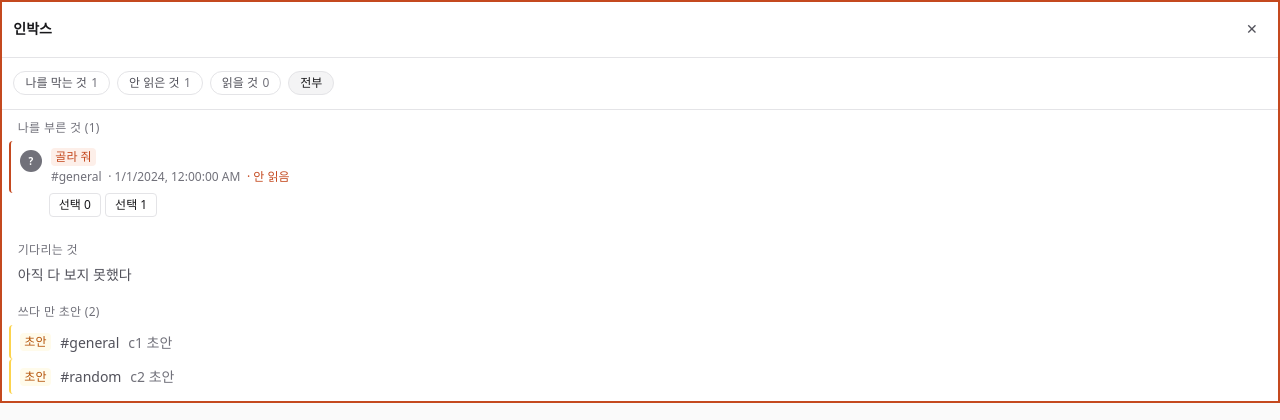
Test: Inbox (#185) › 칩으로 좁히면 초안 구획이 빈다
Expected: the button with test id "inbox-draft-c1" is shown, [9,325,1271,359]
Expected: the button with test id "inbox-draft-c2" is shown, [9,360,1271,394]
Click the button with test id "inbox-filter-blocking".
click(62, 83)  # box [13,71,110,95]
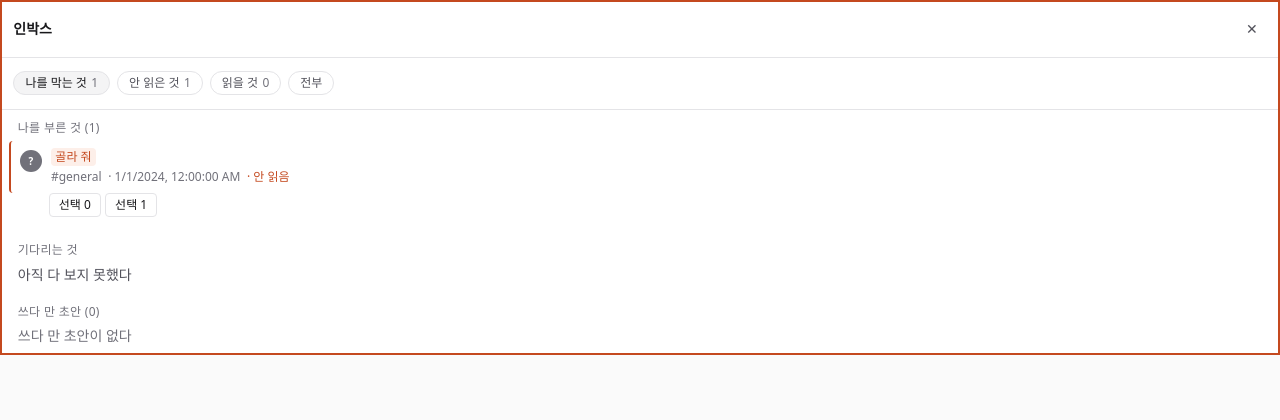
Expected: the button with test id "inbox-entry-1" is shown, [9,141,1271,193]
Now the button with test id "inbox-draft-c1" is gone
Now the button with test id "inbox-draft-c2" is gone
Click the button with test id "inbox-filter-reading".
click(246, 83)  # box [210,71,281,95]
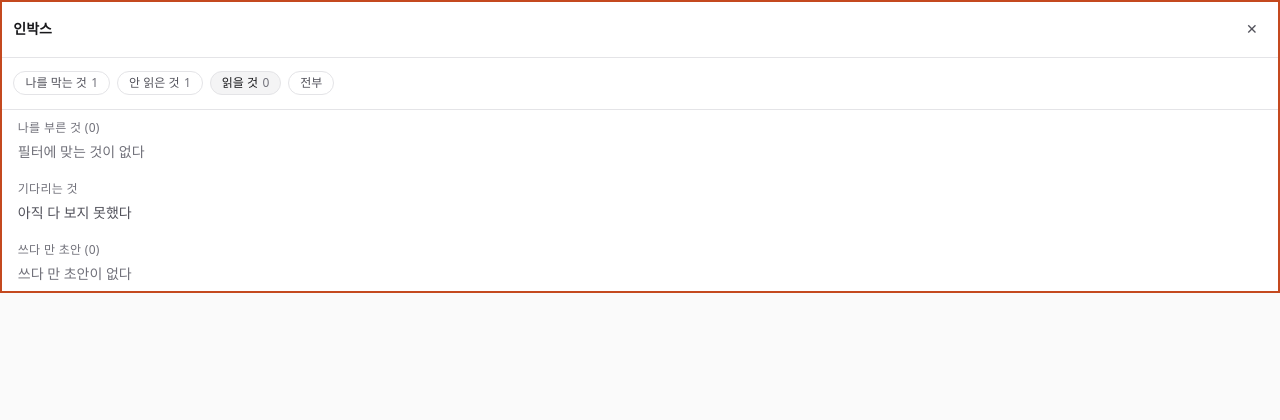
Click the button with test id "inbox-filter-all".
click(311, 83)  # box [288,71,334,95]
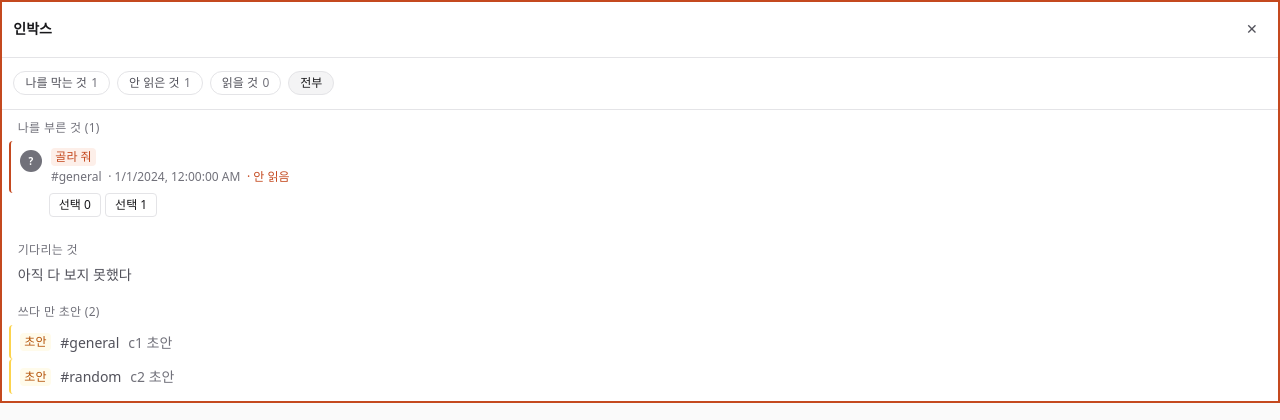
Now the button with test id "inbox-draft-c1" is shown, box [9,325,1271,359]
